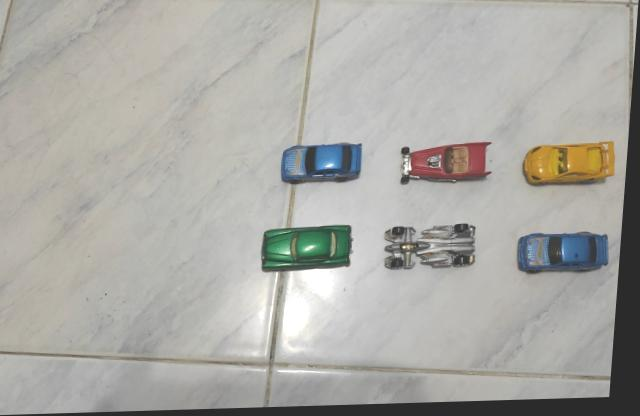03_V8: (402, 145, 496, 188)
04_MERZEDES: (520, 235, 614, 278), (281, 146, 366, 188)
05_DC121: (387, 225, 482, 272)
06_MASERATI: (265, 227, 357, 276)
07_RHLTURBO: (525, 145, 618, 191)
